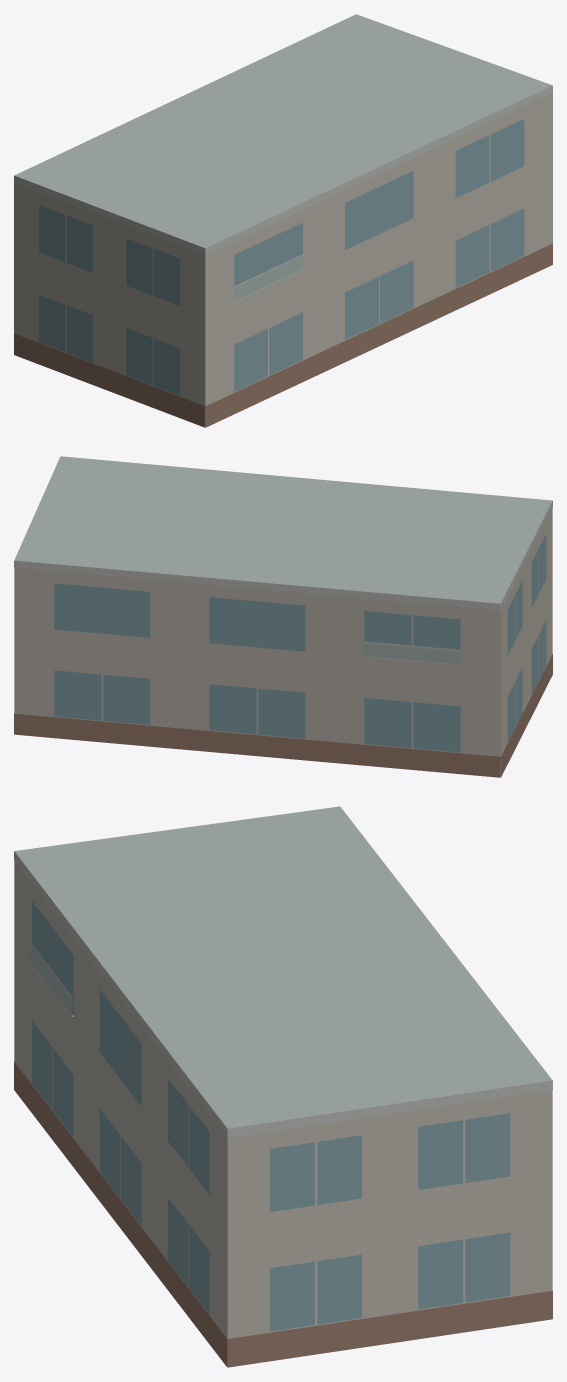
The model's file is survey-upis-32705508.glb.
The picture shows the model from 3 angles, top to bottom: view 1: azimuth 30°, elevation 25°; view 2: azimuth 150°, elevation 25°; view 3: azimuth 270°, elevation 25°; orthographic projection. The views are drawn at different scales.
Parts seen in each view (by area): view 1: survey-upis-32705508.tmp; view 2: survey-upis-32705508.tmp; view 3: survey-upis-32705508.tmp.
Part boxes in pixels (<box>): survey-upis-32705508.tmp: <box>14,14,552,427</box>; survey-upis-32705508.tmp: <box>14,456,552,777</box>; survey-upis-32705508.tmp: <box>14,806,552,1367</box>.
Bounding box in the file's own units: 17.67 × 6.1 × 12.48.
